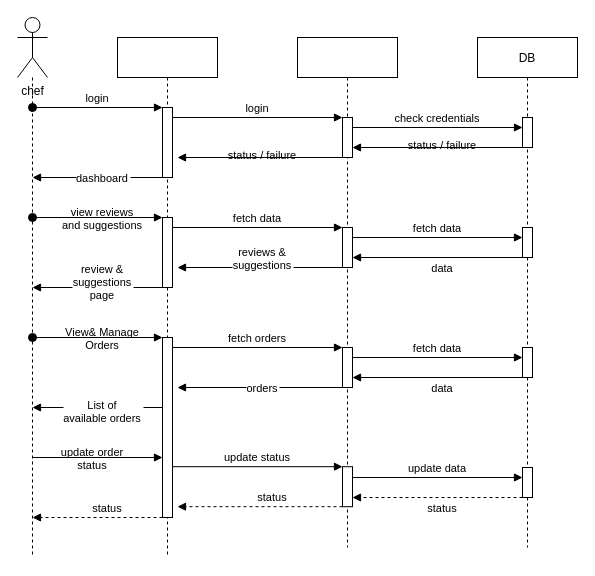
This 595x576 diagram has some shape labels left out. Each missing label, with the centre of its shape:
"Application" goes at point 167,297.
"Server" goes at point 347,292.
